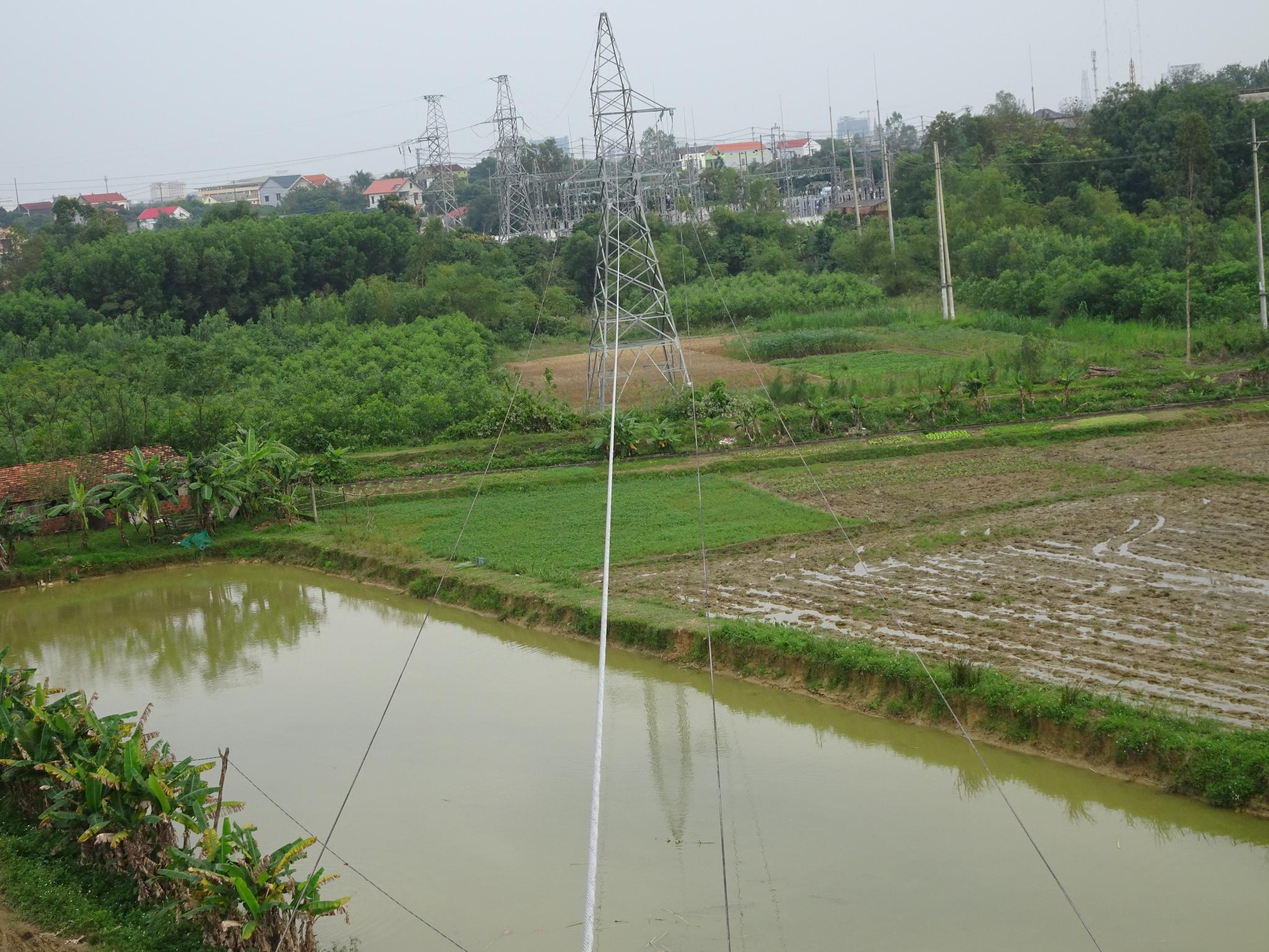tower: (552, 4, 701, 434)
